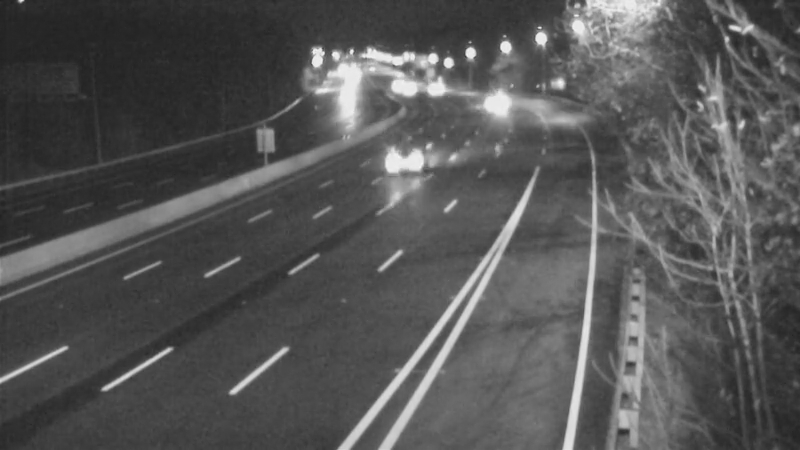vehicle: (369, 126, 449, 206), (370, 60, 420, 110), (407, 62, 457, 112), (383, 66, 433, 116), (470, 78, 520, 128), (318, 74, 368, 124)
